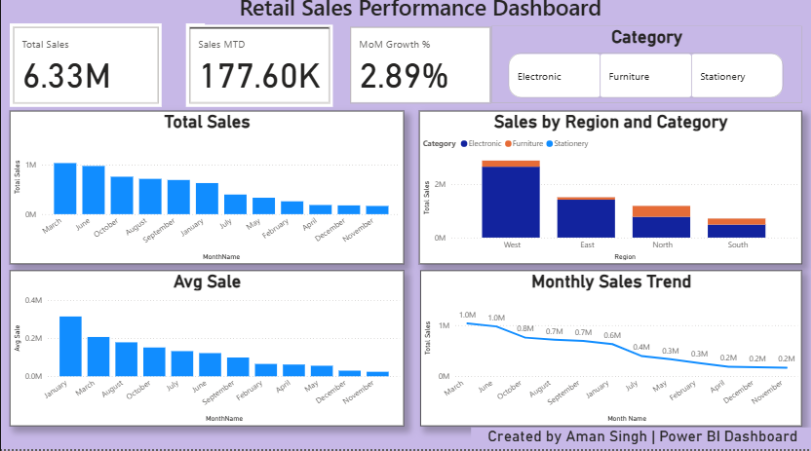

What the dashboard file says about the page in this screenshot:
{"tool":"powerbi","page":{"name":"Page 1","canvas":[1280,720],"ordinal":0},"visuals":[{"type":"columnChart","title":"Total Sales","fields":{"Category":["Date.MonthName"],"Y":["Sheet1.Total Sales"]},"box":[19.8,190.4,616.9,240],"z":0},{"type":"columnChart","title":"Avg Sale","fields":{"Y":["Sheet1.Avg Sale"],"Category":["Date.MonthName"]},"box":[19.8,440.4,616.9,244],"z":1000},{"type":"columnChart","title":"Sales by Region and Category","fields":{"Category":["Sheet1.Region"],"Series":["Sheet1.Category"],"Y":["Sheet1.Total Sales"]},"box":[660.6,190.4,599.1,240],"z":2000},{"type":"lineChart","title":"Monthly Sales Trend","fields":{"Y":["Sheet1.Total Sales"],"Category":["Sheet1.Month Name"]},"box":[662.5,440.4,597.1,244],"z":3000},{"type":"cardVisual","fields":{"Data":["Sheet1.Sales MTD"]},"box":[295.6,53.6,230.1,130.9],"z":4000},{"type":"cardVisual","fields":{"Data":["Sheet1.Total Sales"]},"box":[19.8,53.6,238,130.9],"z":5000},{"type":"cardVisual","fields":{"Data":["Sheet1.MoM Growth %"]},"box":[547.5,53.6,230.1,130.9],"z":6000},{"type":"advancedSlicerVisual","title":"Category","fields":{"Values":["Sheet1.Category"]},"box":[774.5,58.1,485.9,120.4],"z":7000},{"type":"textbox","title":"Retail Sales Performance Dashboard","box":[325.3,4,674.4,51.6],"z":8000},{"type":"textbox","title":"Created by Aman Singh | Power BI Dashboard","box":[741.9,686.3,537.6,25.8],"z":9000}]}

Visuals, with their boxes in screenshot pixels (x1, y1, x2, y2), scaled from the page's 1280x720 canvas onto the 811x451 screenshot:
"Total Sales" columnChart: [left=13, top=119, right=403, bottom=270]
"Avg Sale" columnChart: [left=13, top=276, right=403, bottom=429]
"Sales by Region and Category" columnChart: [left=419, top=119, right=798, bottom=270]
"Monthly Sales Trend" lineChart: [left=420, top=276, right=798, bottom=429]
cardVisual - Sheet1.Sales MTD: [left=187, top=34, right=333, bottom=116]
cardVisual - Sheet1.Total Sales: [left=13, top=34, right=163, bottom=116]
cardVisual - Sheet1.MoM Growth %: [left=347, top=34, right=493, bottom=116]
"Category" advancedSlicerVisual: [left=491, top=36, right=799, bottom=112]
"Retail Sales Performance Dashboard" textbox: [left=206, top=3, right=633, bottom=35]
"Created by Aman Singh | Power BI Dashboard" textbox: [left=470, top=430, right=810, bottom=446]
